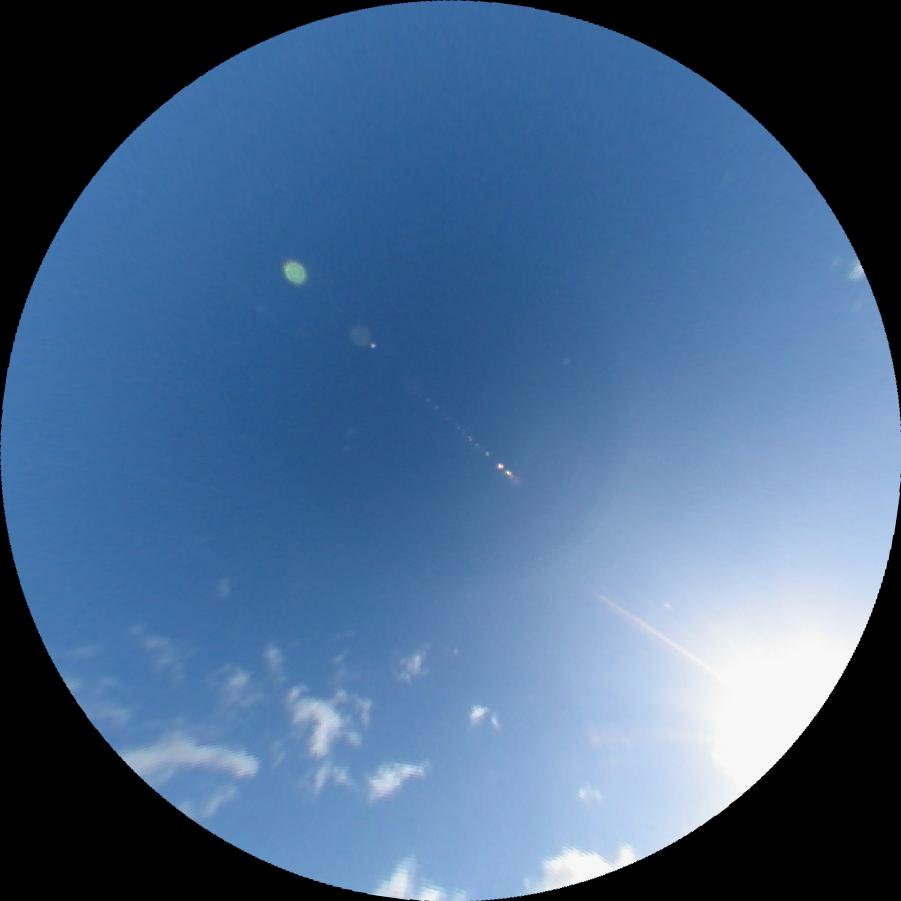parasite: (591, 587, 730, 683)
sun: (673, 586, 870, 798)
